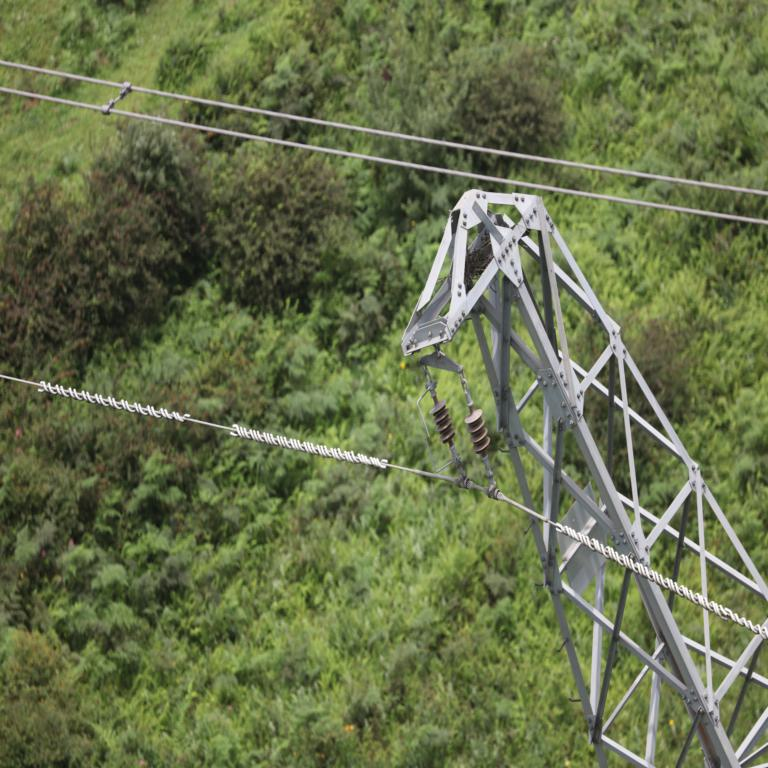nest: (451, 229, 494, 293)
